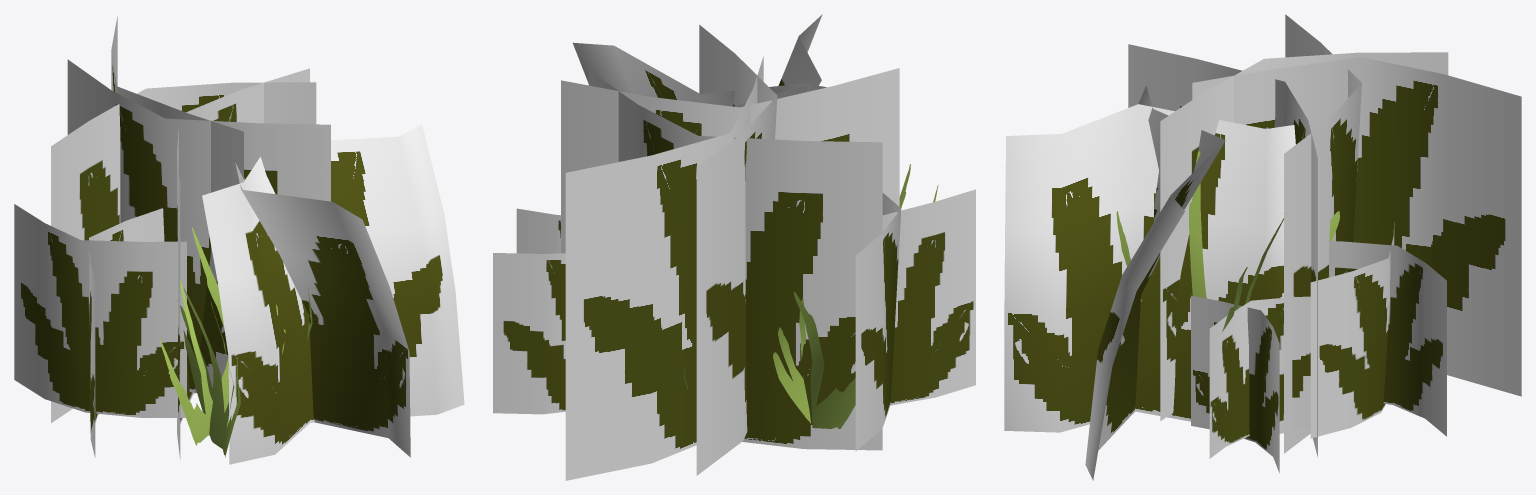
The model's file is Grass_3.fbx.
The picture shows the model from 3 angles, left to right: view 1: azimuth 30°, elevation 25°; view 2: azimuth 150°, elevation 25°; view 3: azimuth 270°, elevation 25°; orthographic projection. The views are drawn at different scales.
Visible parts, largest first — view 1: Grass_Group_3; view 2: Grass_Group_3; view 3: Grass_Group_3.
Part boxes in pixels (x1,y1,x2,y2): Grass_Group_3: [14, 16, 464, 464]; Grass_Group_3: [493, 14, 975, 480]; Grass_Group_3: [1004, 14, 1521, 480].
Size of the model in its own units: 1.64 by 1.28 by 1.93.
